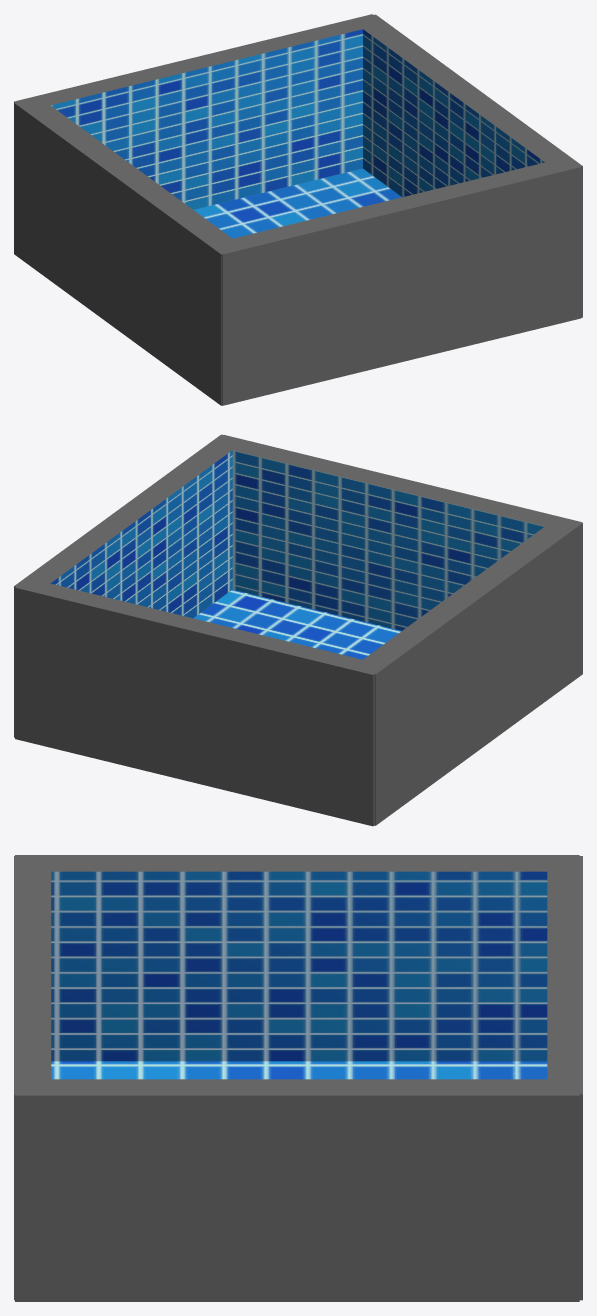
Rendered from pool.fbx.
3 renders of one model, top to bottom at view 1: azimuth 30°, elevation 25°; view 2: azimuth 150°, elevation 25°; view 3: azimuth 270°, elevation 25°, orthographic. The views are drawn at different scales.
Parts seen in each view (by area): view 1: Cube; view 2: Cube; view 3: Cube.
Part boxes in pixels (bbox=[...]): Cube: bbox=[14, 14, 582, 405]; Cube: bbox=[14, 434, 582, 826]; Cube: bbox=[14, 855, 582, 1301].
Bounding box in the file's own units: 2500 × 1000 × 2500.
Materials: 2 (1 with a texture image).
